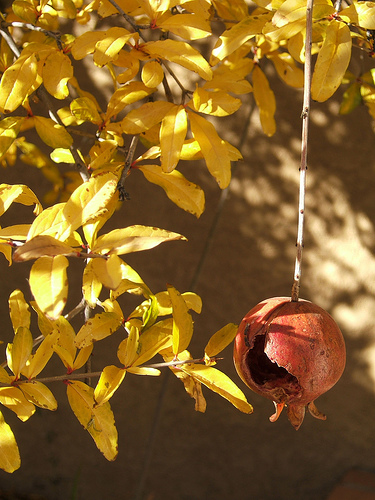pomogranate: (232, 295, 345, 428)
